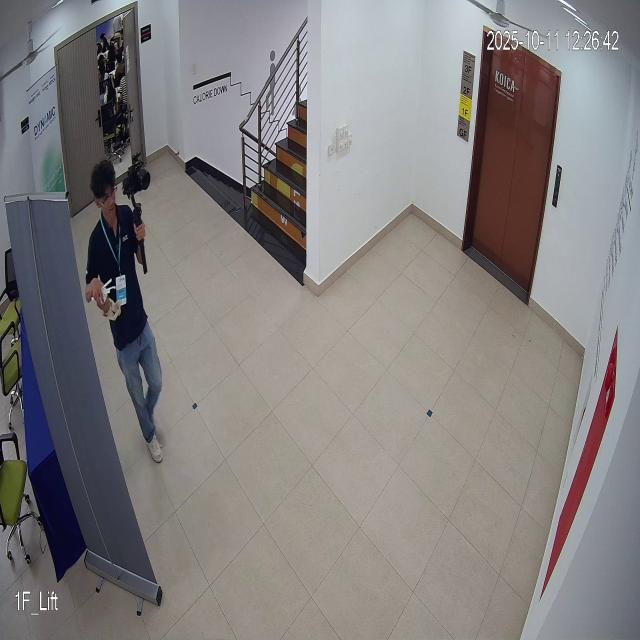face: (87, 160, 129, 224)
